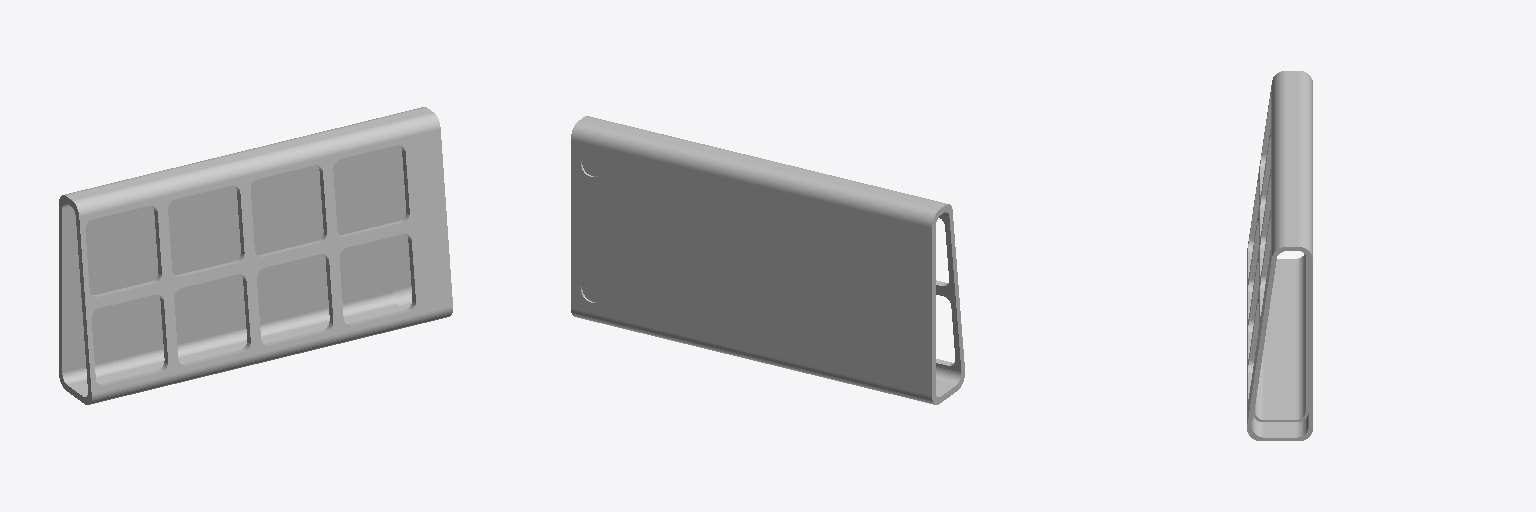
Rendered from pad_left.obj.
3 renders of one model, left to right at view 1: azimuth 30°, elevation 25°; view 2: azimuth 150°, elevation 25°; view 3: azimuth 270°, elevation 25°, orthographic.
Visible parts, largest first — view 1: 1; view 2: 1; view 3: 1.
Boxes of the visible parts, x1=… form: 1: x1=59, y1=107, x2=452, y2=404; 1: x1=571, y1=116, x2=964, y2=404; 1: x1=1247, y1=71, x2=1312, y2=440.
Bounding box in the file's own units: 175 × 90 × 27.65.